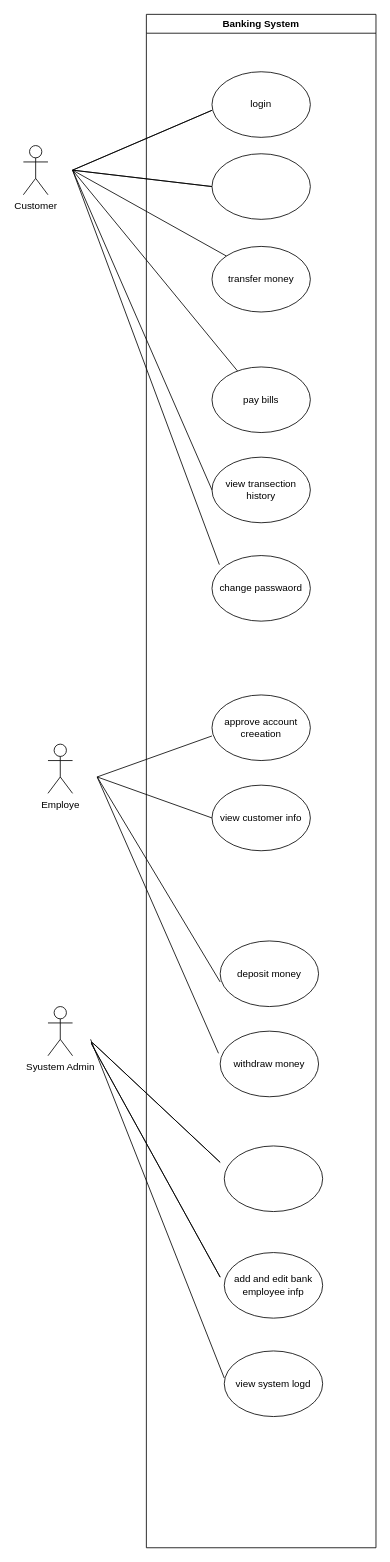
Image size: 390x1562. Some labels were removed from this diagram. Here are the shapes that lost their labels. From the top down, the box of each, then its label:
(211, 153, 310, 219): view account info
(223, 1145, 323, 1212): add and edit customer info
